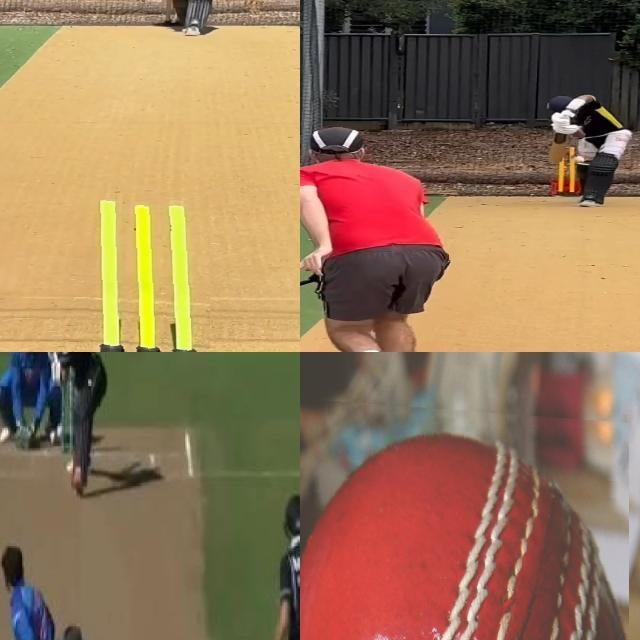Cricket ball: (300, 395, 629, 640), (572, 156, 586, 162), (65, 463, 73, 473)
Stumps: (76, 193, 209, 352)
